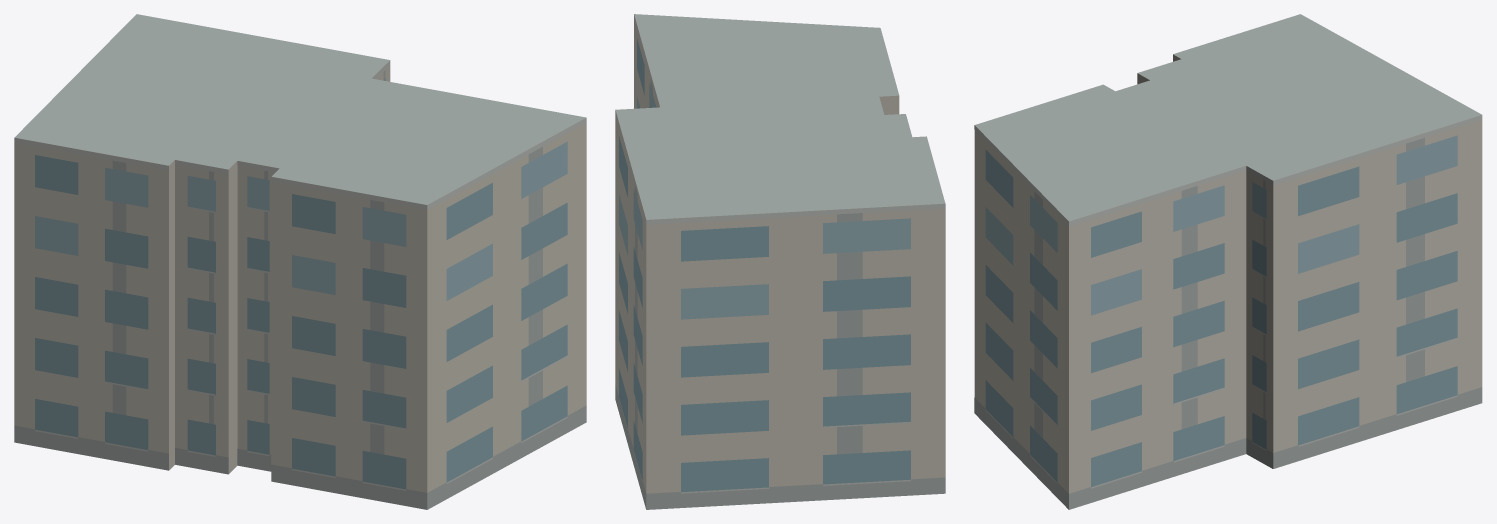
The model's file is survey-upis-32801614.glb.
The picture shows the model from 3 angles, left to right: view 1: azimuth 30°, elevation 25°; view 2: azimuth 150°, elevation 25°; view 3: azimuth 270°, elevation 25°; orthographic projection. The views are drawn at different scales.
Visible parts, largest first — view 1: survey-upis-32801614.tmp; view 2: survey-upis-32801614.tmp; view 3: survey-upis-32801614.tmp.
Part boxes in pixels (bbox=[...]): survey-upis-32801614.tmp: bbox=[14, 14, 586, 509]; survey-upis-32801614.tmp: bbox=[615, 14, 945, 509]; survey-upis-32801614.tmp: bbox=[974, 14, 1482, 509].
Size of the model in its own units: 22.71 by 14.7 by 23.47.
